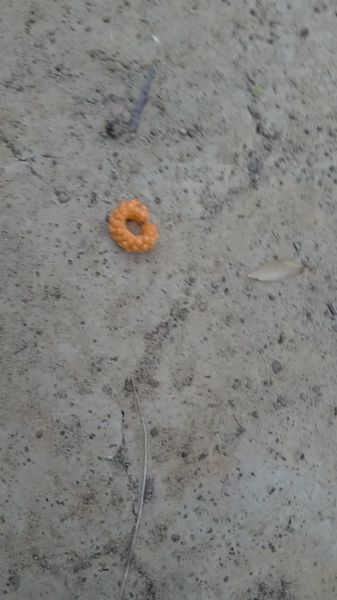eggs: (115, 194, 162, 258)
